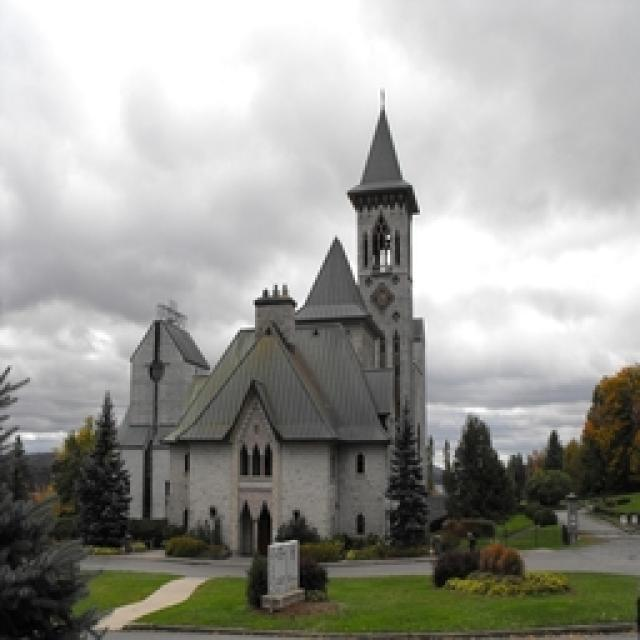Abbey: (217, 384, 300, 551)
